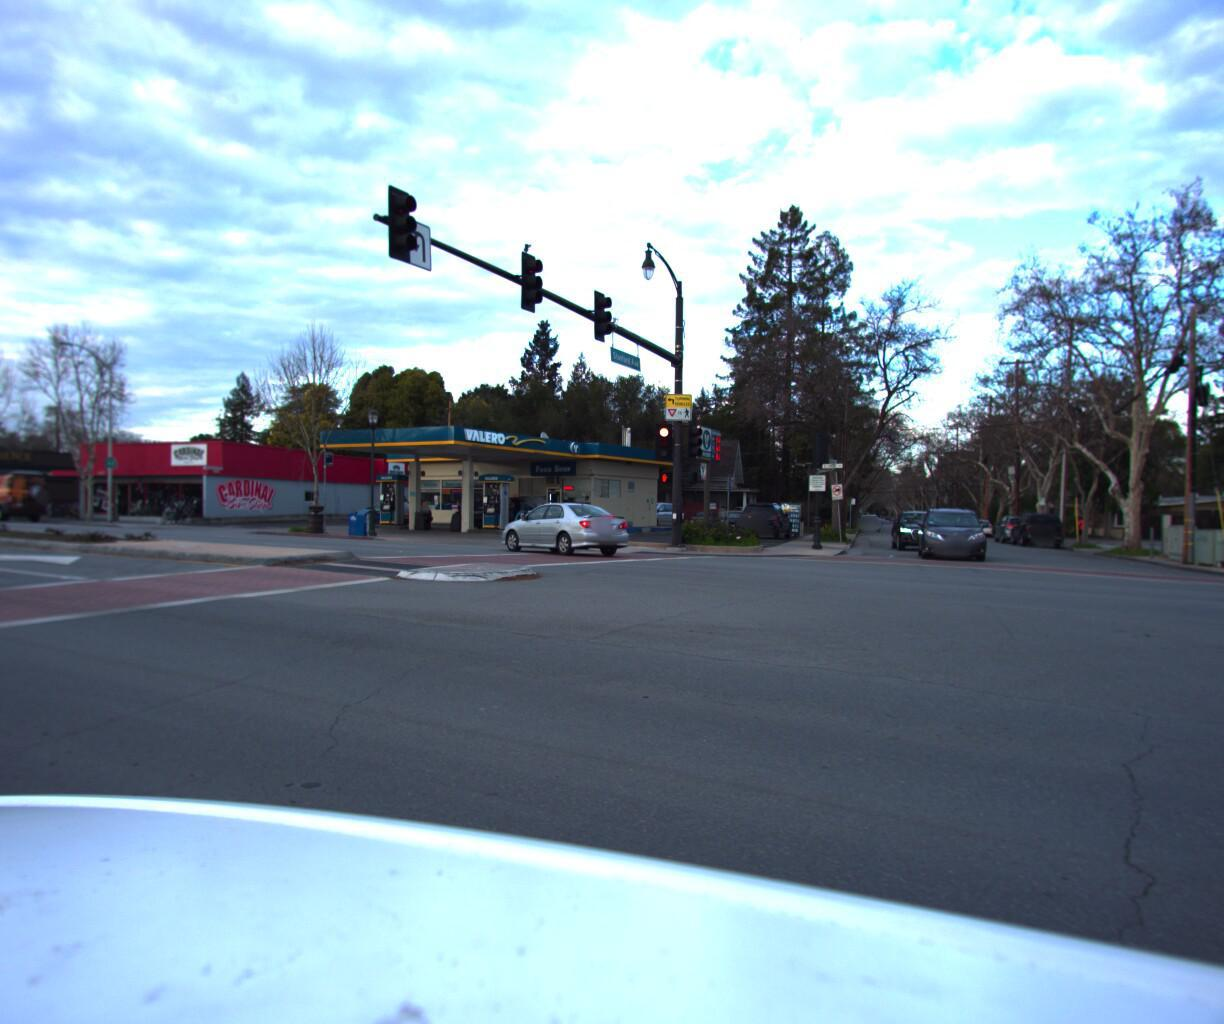car: (492, 493, 641, 556), (910, 496, 994, 558), (442, 491, 545, 526), (885, 502, 952, 548), (734, 495, 796, 534), (1006, 504, 1064, 543), (618, 495, 686, 526), (988, 506, 1043, 540), (962, 511, 996, 533), (856, 506, 884, 526)
